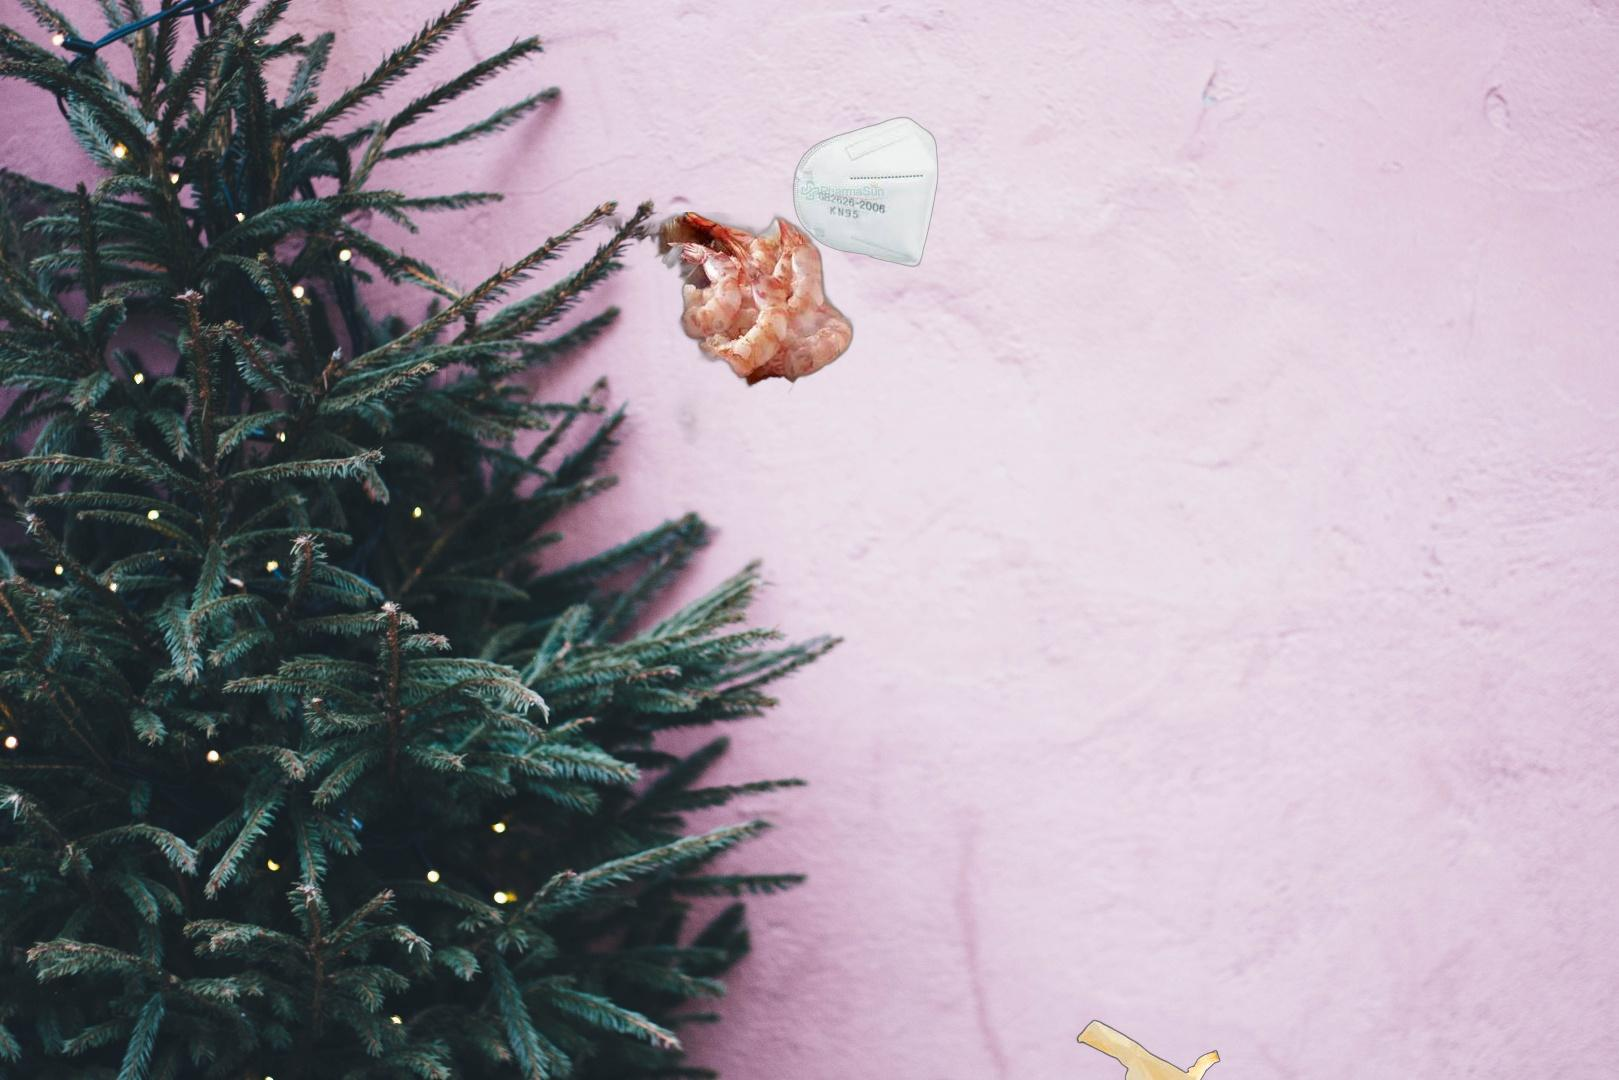biological: (446, 212, 860, 481)
plastic-bag: (1054, 1017, 1253, 1080)
trash: (791, 115, 942, 268)
